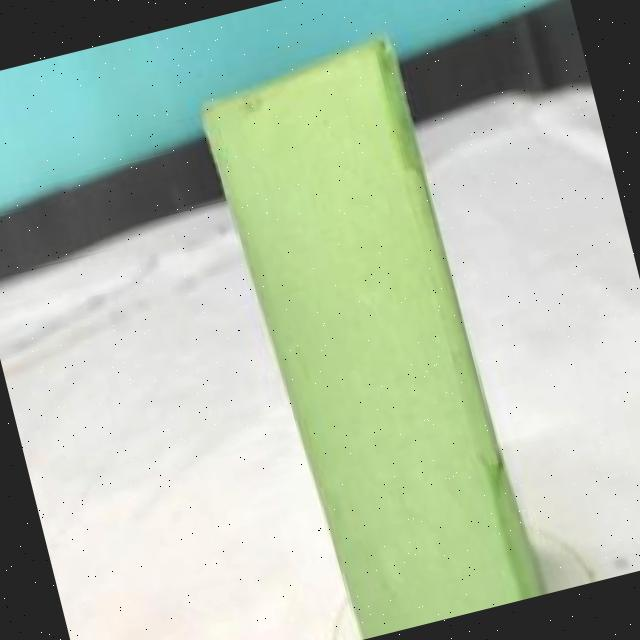greenbox: (189, 26, 540, 640)
